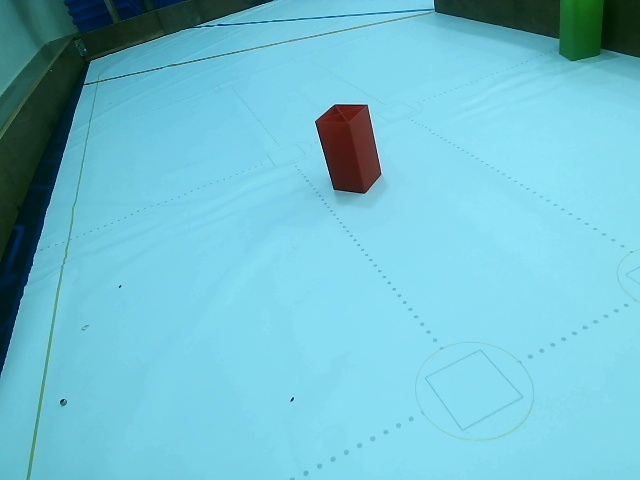red: (320, 110, 380, 191)
